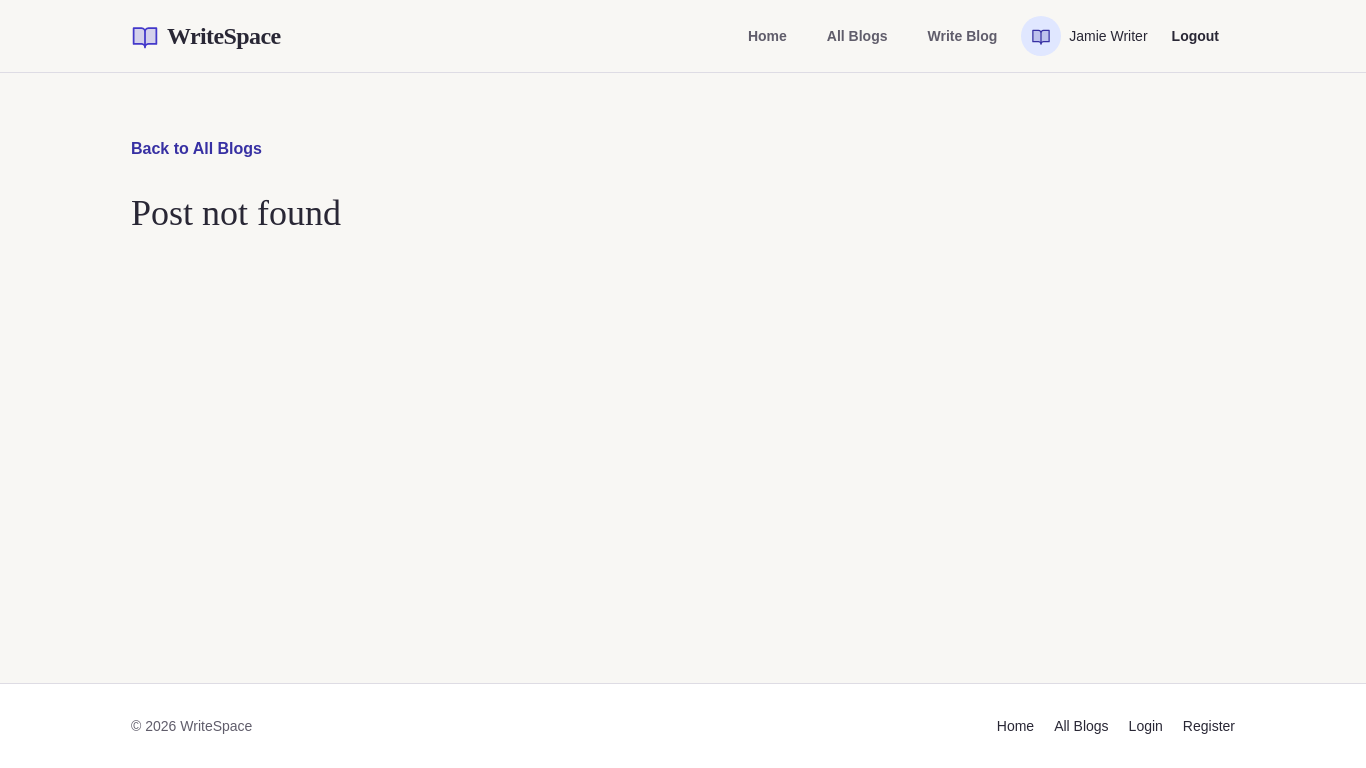
reading components and route actions › shows exact Post not found for unknown and back link works
Expected: the heading reads "Post not found", [131,193,341,233]
Expected: the button "Delete" is not shown
Click the link "Back to All Blogs" at (196, 148), box [131,140,262,157]
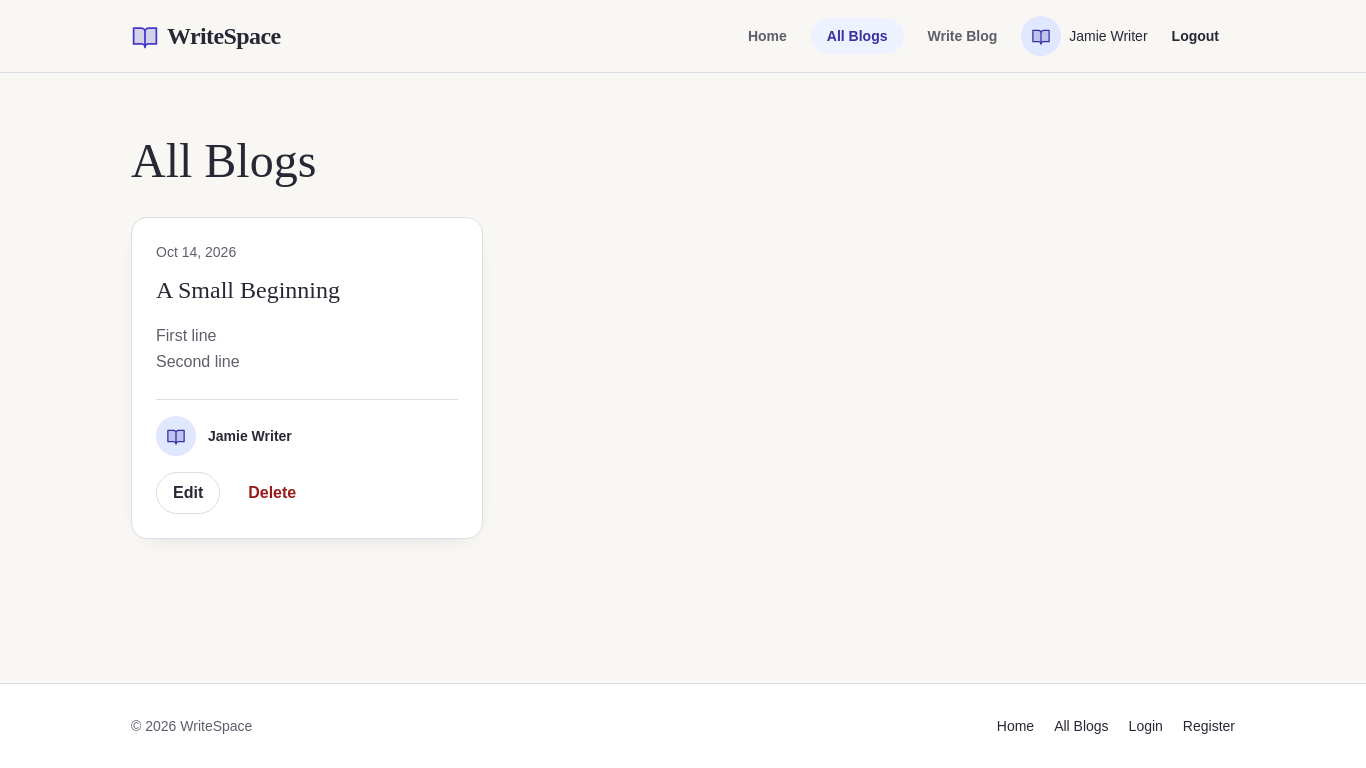
Expected: the link "A Small Beginning" is shown, [156,277,340,303]
